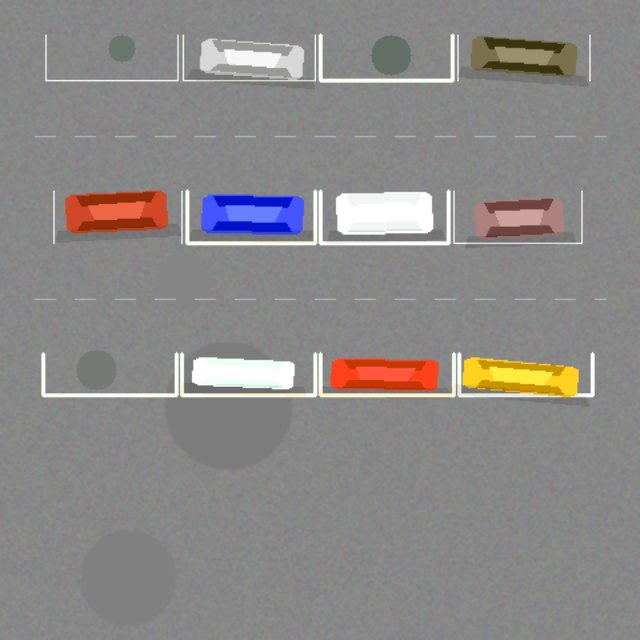space-empty: (45, 35, 177, 80), (320, 35, 452, 80), (43, 353, 176, 395)
space-occupied: (53, 191, 181, 243), (187, 191, 315, 243), (320, 191, 448, 243), (453, 191, 581, 243), (183, 35, 315, 80), (457, 35, 589, 80), (181, 353, 315, 395), (320, 353, 453, 395), (459, 353, 592, 395)
